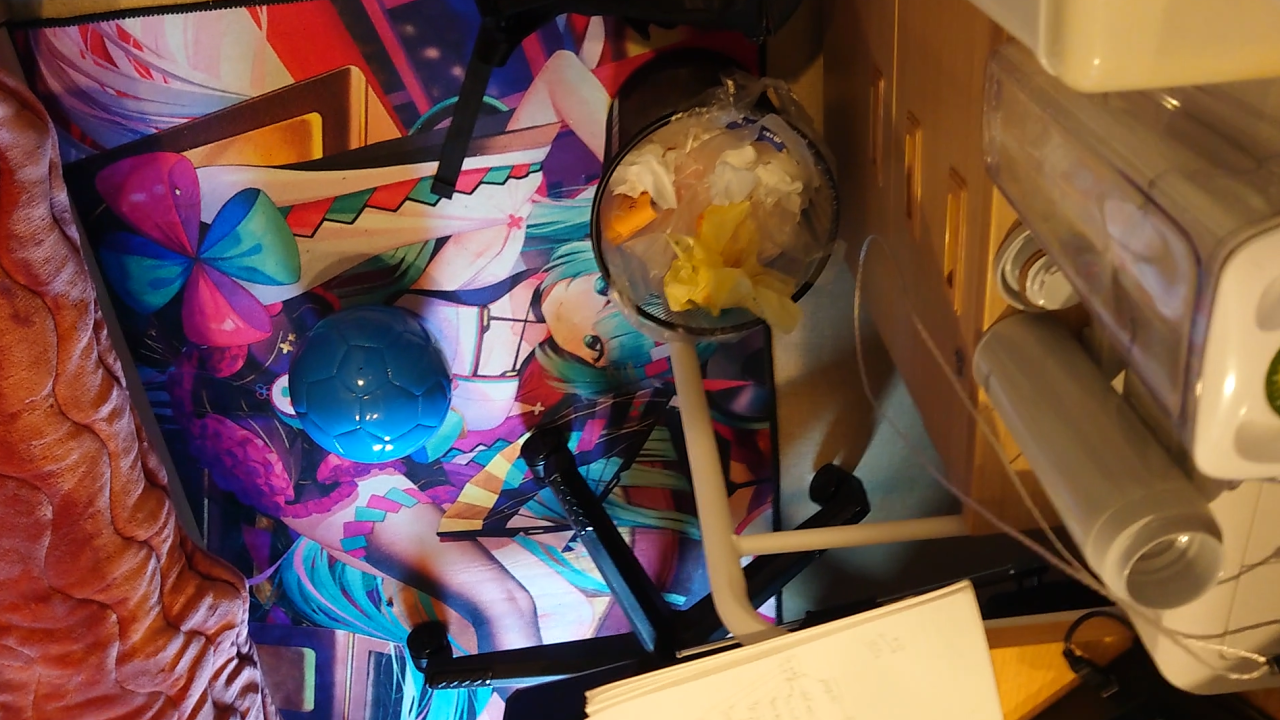blue: (286, 306, 452, 460)
